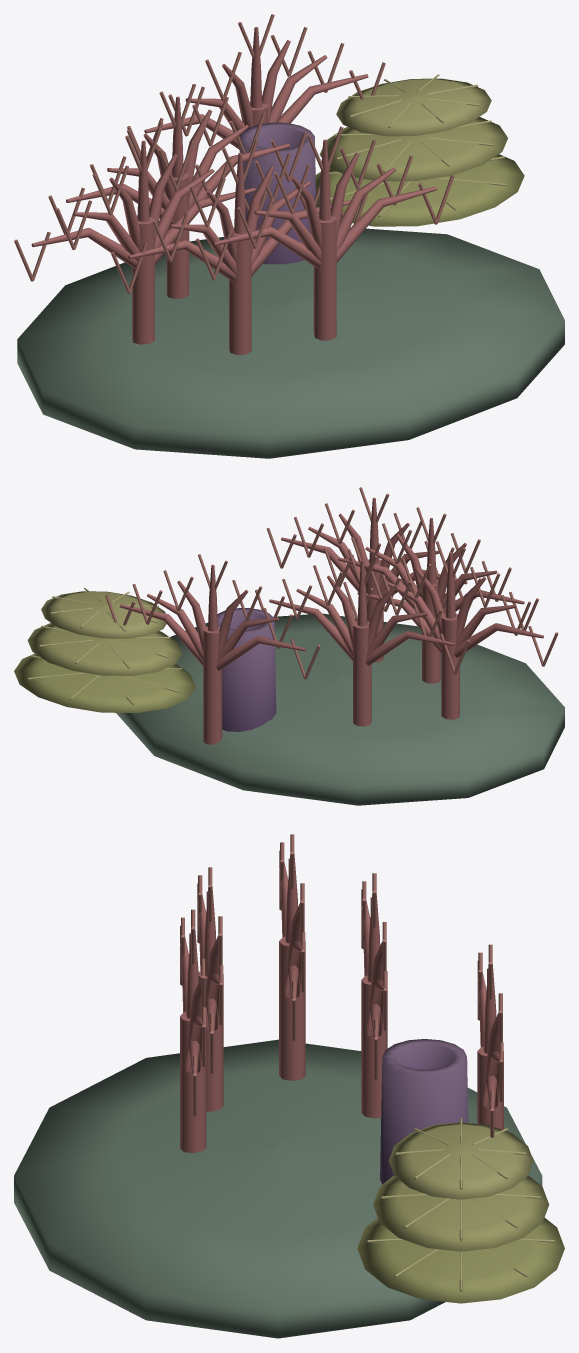
The model's file is Reef0.fbx.
3 renders of one model, top to bottom at view 1: azimuth 30°, elevation 25°; view 2: azimuth 150°, elevation 25°; view 3: azimuth 270°, elevation 25°, orthographic. The views are drawn at different scales.
Parts seen in each view (by area): view 1: Hollow sponges, branching sea fans and ribbed plate coral; view 2: Hollow sponges, branching sea fans and ribbed plate coral; view 3: Hollow sponges, branching sea fans and ribbed plate coral.
Part boxes in pixels (bbox=[...]): Hollow sponges, branching sea fans and ribbed plate coral: bbox=[14, 14, 564, 458]; Hollow sponges, branching sea fans and ribbed plate coral: bbox=[14, 487, 564, 805]; Hollow sponges, branching sea fans and ribbed plate coral: bbox=[14, 834, 564, 1338].
Bounding box in the file's own units: 3.09 × 1.43 × 2.28.
